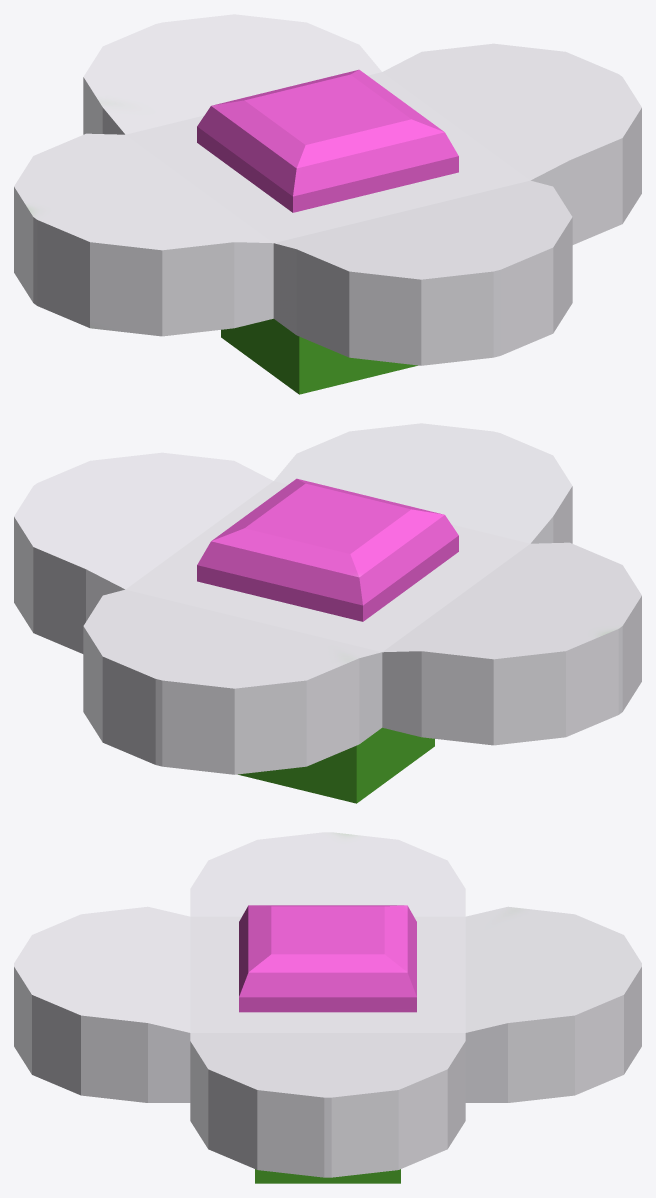
The model's file is FlorRosa.fbx.
3 renders of one model, top to bottom at view 1: azimuth 30°, elevation 25°; view 2: azimuth 150°, elevation 25°; view 3: azimuth 270°, elevation 25°, orthographic. The views are drawn at different scales.
Parts seen in each view (by area): view 1: FlorRosa; view 2: FlorRosa; view 3: FlorRosa.
Boxes of the visible parts, x1=… form: FlorRosa: x1=14, y1=14, x2=641, y2=394; FlorRosa: x1=14, y1=423, x2=641, y2=803; FlorRosa: x1=14, y1=832, x2=641, y2=1183.
Bounding box in the file's own units: 70.3 × 27.49 × 70.3.
1 material, 1 textured.
